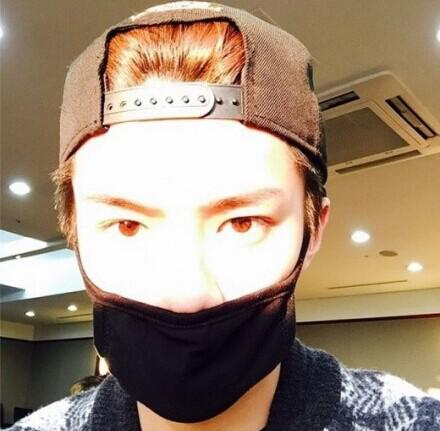WRONG: (70, 176, 307, 413)
